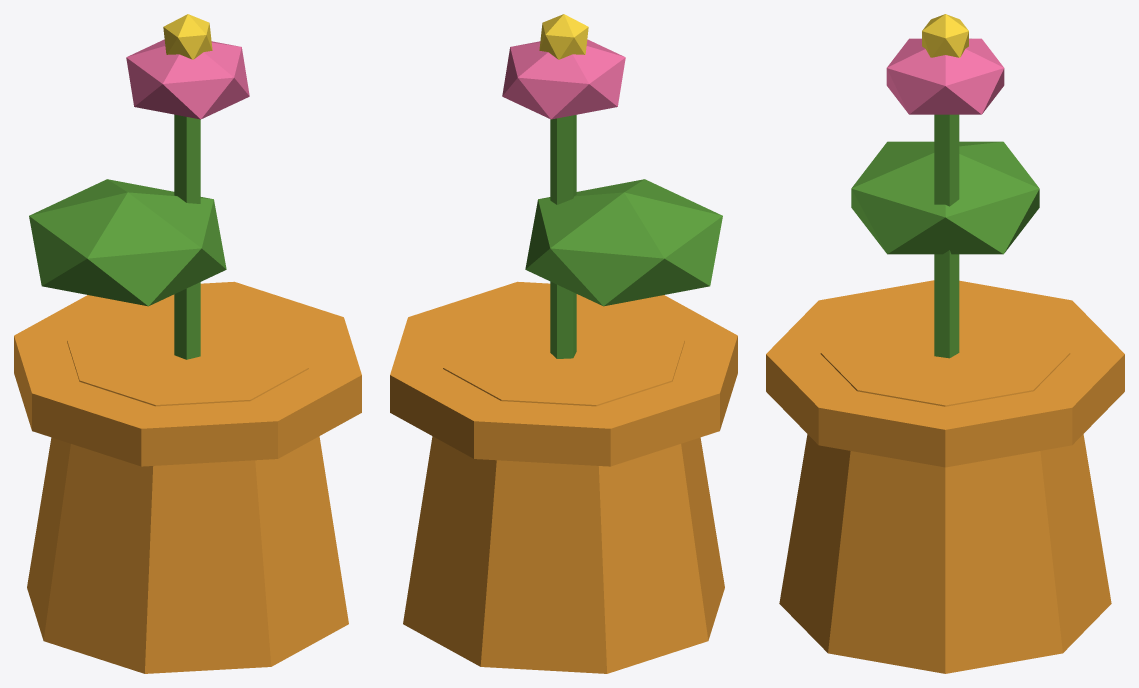
The model's file is garden2_potted_flower_pink.glb.
3 views of the same model, side by side, from view 1: azimuth 30°, elevation 25°; view 2: azimuth 150°, elevation 25°; view 3: azimuth 270°, elevation 25° (orthographic).
Visible parts, largest first — view 1: potted_flower_pink; view 2: potted_flower_pink; view 3: potted_flower_pink.
Boxes of the visible parts, x1=… form: potted_flower_pink: x1=14, y1=14, x2=361, y2=673; potted_flower_pink: x1=390, y1=14, x2=737, y2=673; potted_flower_pink: x1=766, y1=14, x2=1124, y2=673.
Bounding box in the file's own units: 0.2592 × 0.47 × 0.2592.
